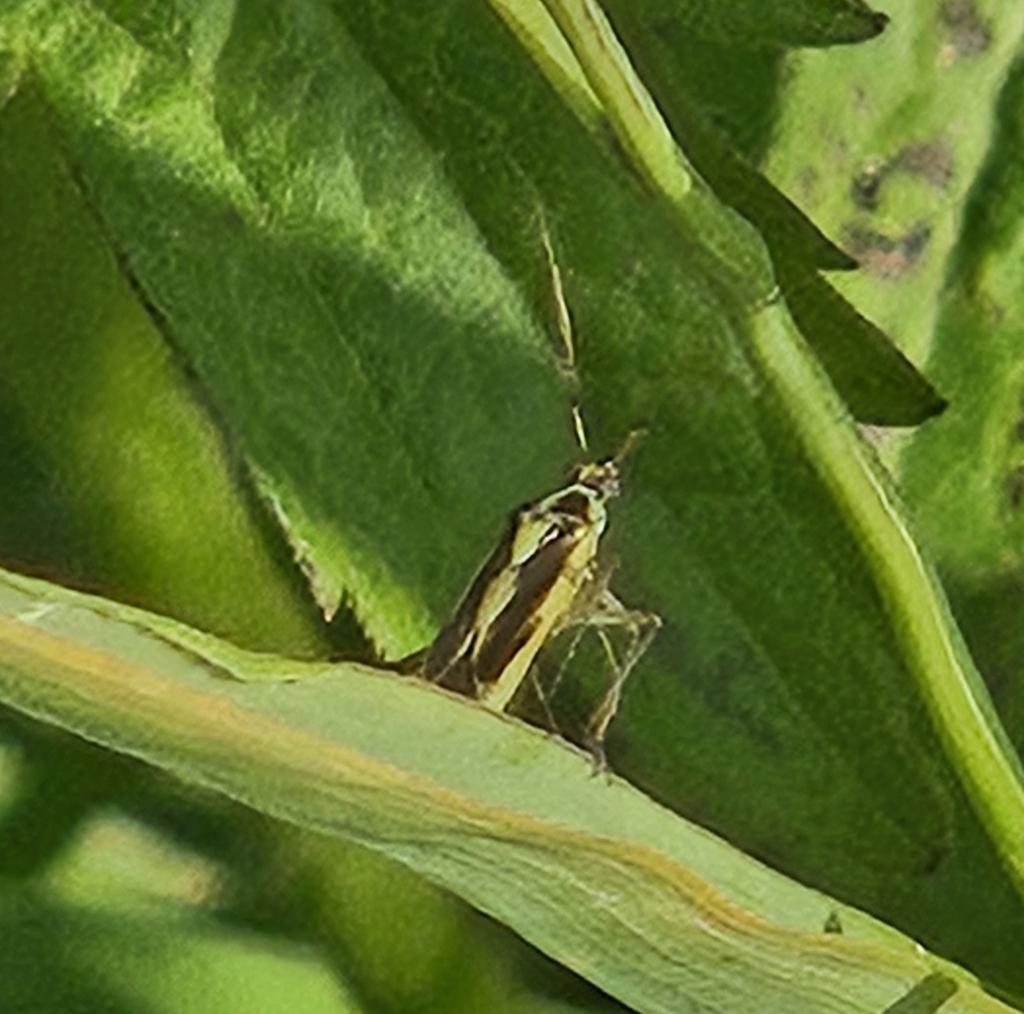plant_bugs: (364, 176, 717, 866)
